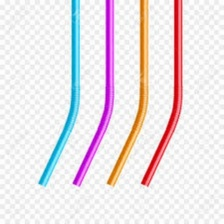drinking_straw: (33, 0, 86, 190), (136, 0, 187, 189), (70, 0, 118, 189), (104, 0, 152, 188)
